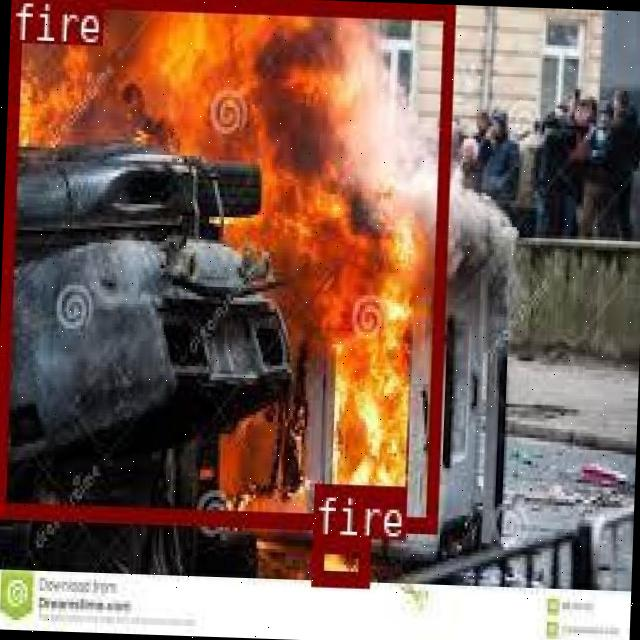fire: (0, 0, 450, 527), (308, 535, 368, 584)
